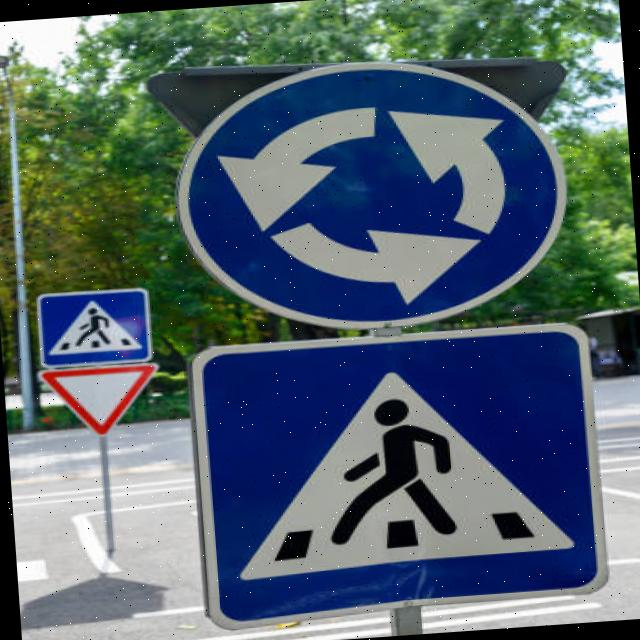round_about: (150, 38, 600, 345)
